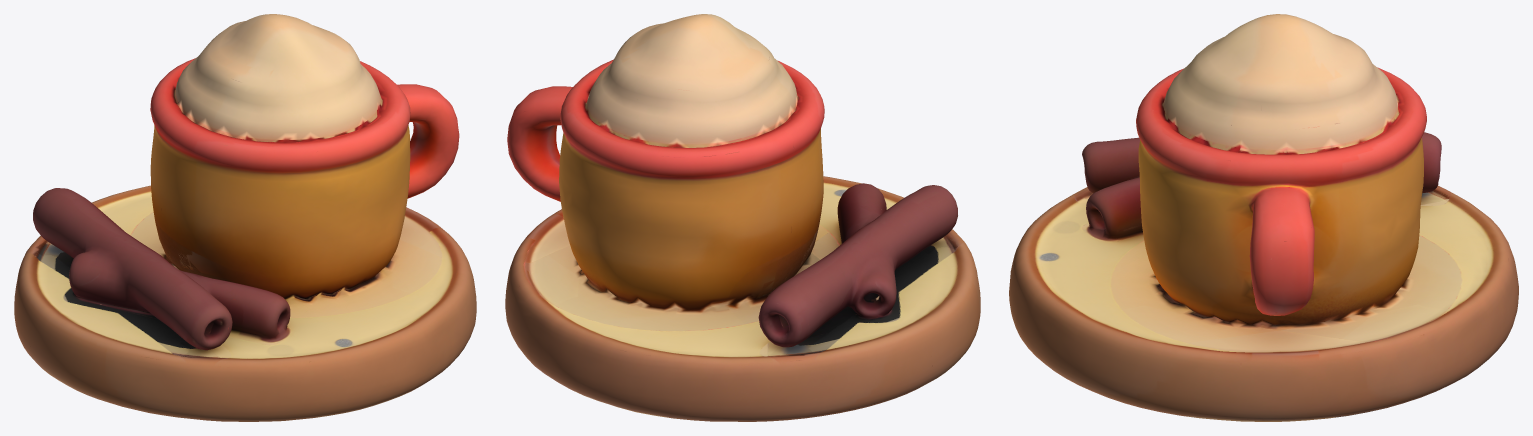
File: PumpkinDrink.glb
3 renders of one model, left to right at view 1: azimuth 30°, elevation 25°; view 2: azimuth 150°, elevation 25°; view 3: azimuth 270°, elevation 25°, orthographic. The views are drawn at different scales.
Size of the model in its own units: 1.91 by 1.3 by 1.86.
Materials: 1 (1 with a texture image).
